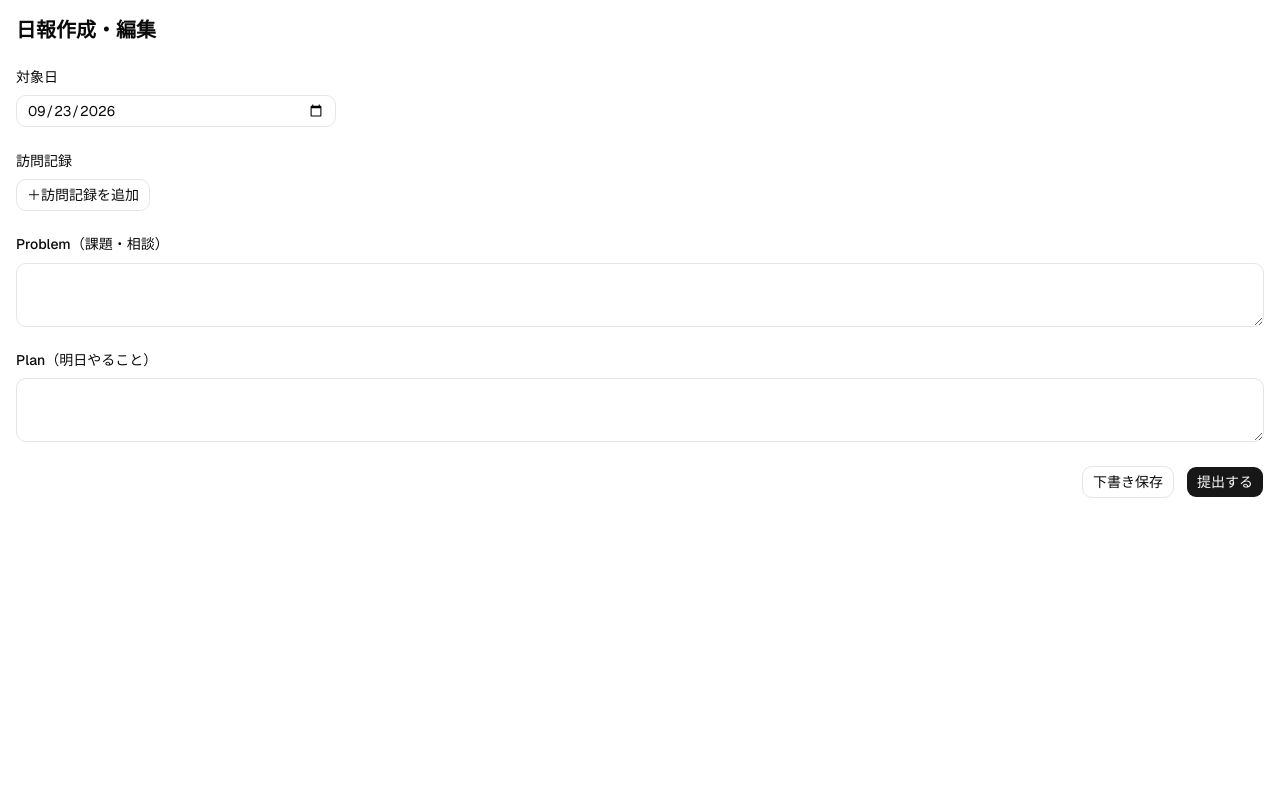
Test: ReportForm (create mode) › rejects submission when only the customer is selected on a row (TC-SCR02-03)
The width and height of the screenshot is (1280, 800).
Click the button "＋訪問記録を追加" at (83, 195), box [16,179,150,211]
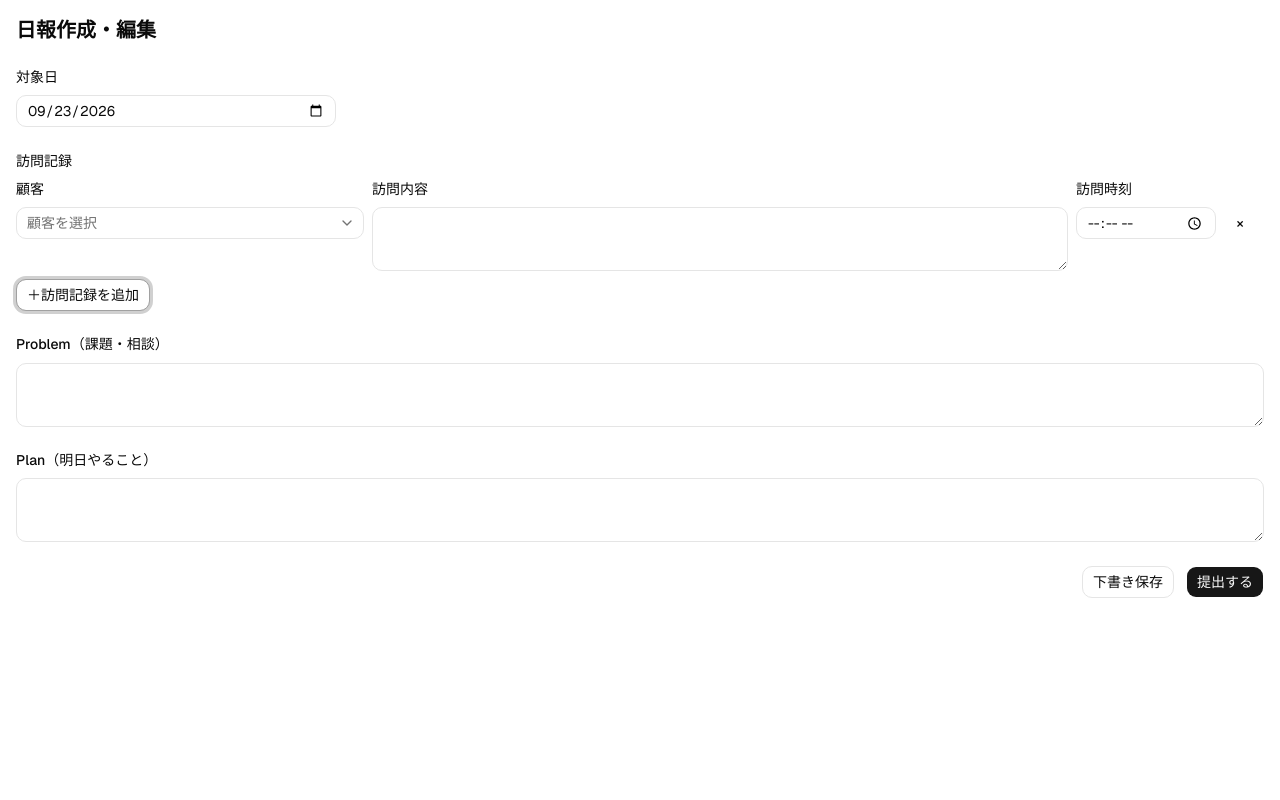
Click the dropdown named "訪問記録1件目の顧客" at (62, 223), box [16,207,364,239]
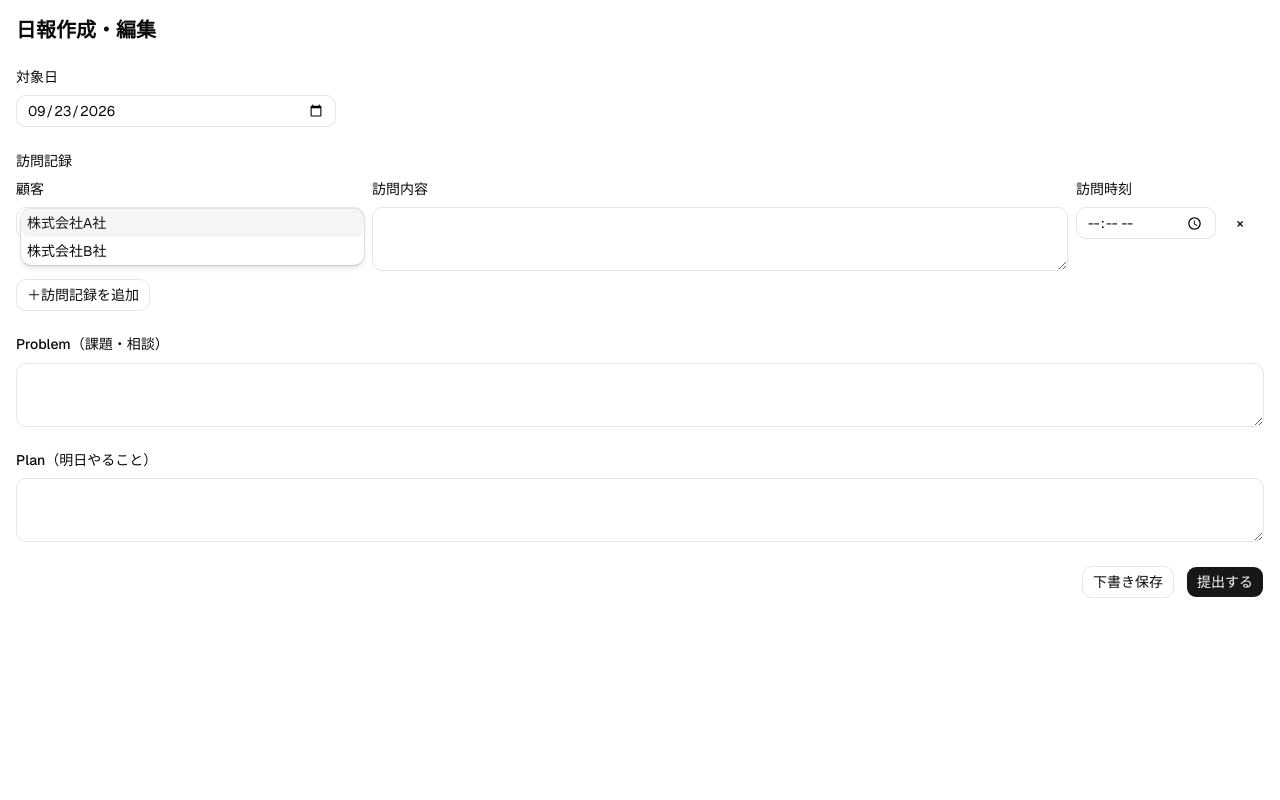
Click the option "株式会社A社" at (67, 223), box [21,209,364,237]
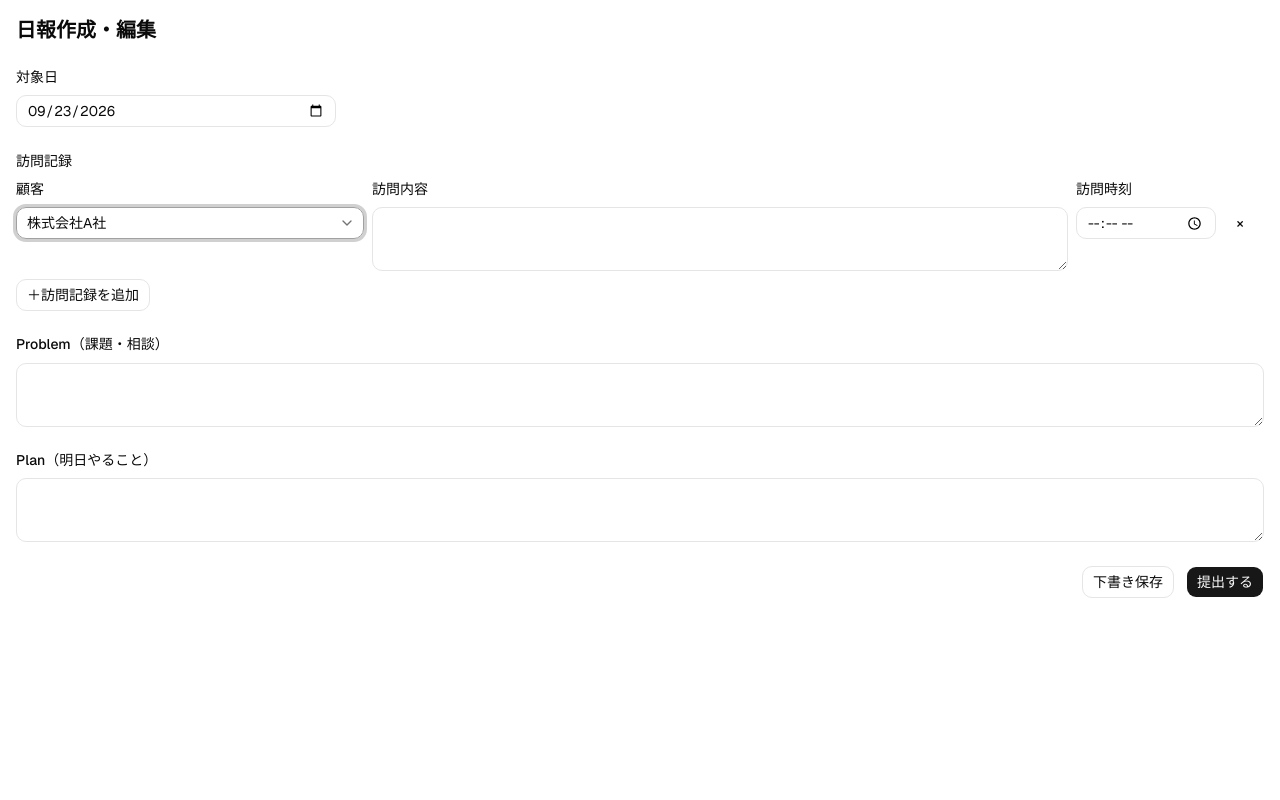
Click the button "提出する" at (1225, 582), box [1186,566,1264,598]
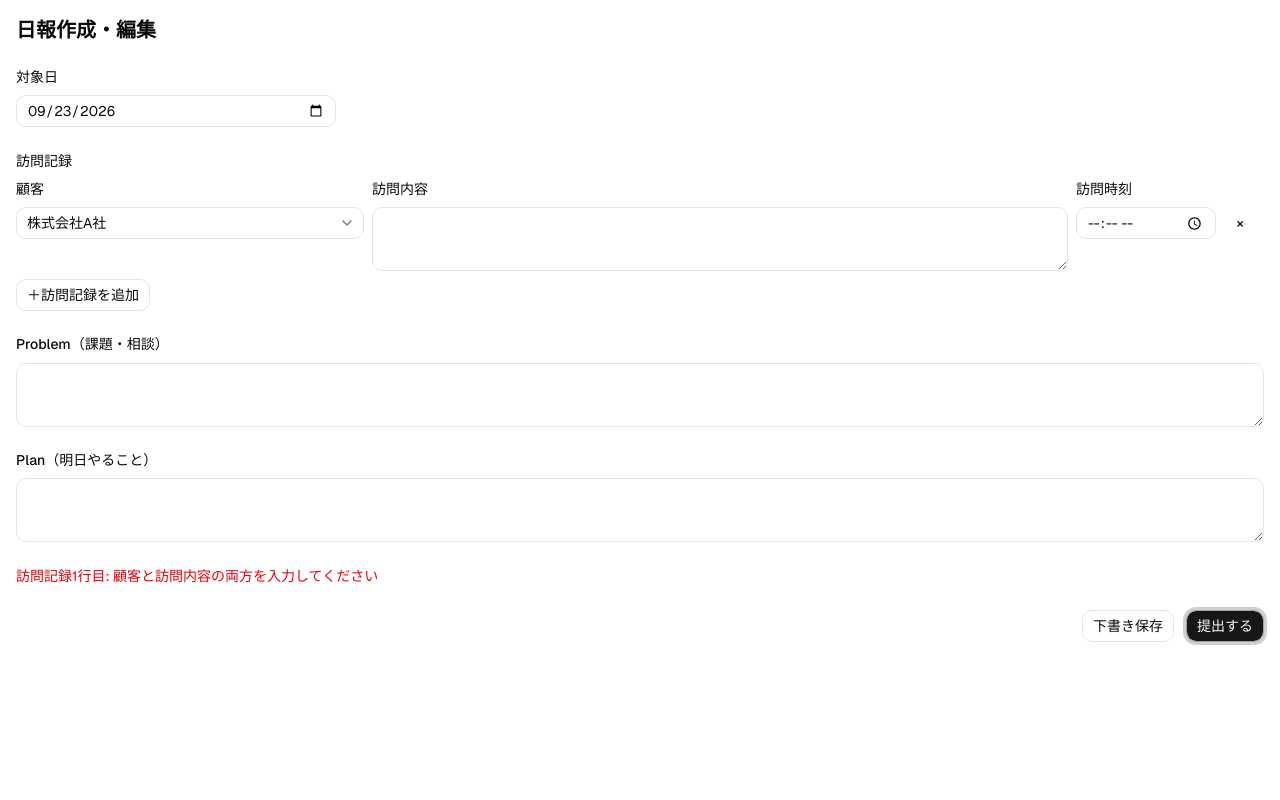
Expected: the text "訪問記録1行目: 顧客と訪問内容の両方を入力してください" is shown, [16,567,378,585]
